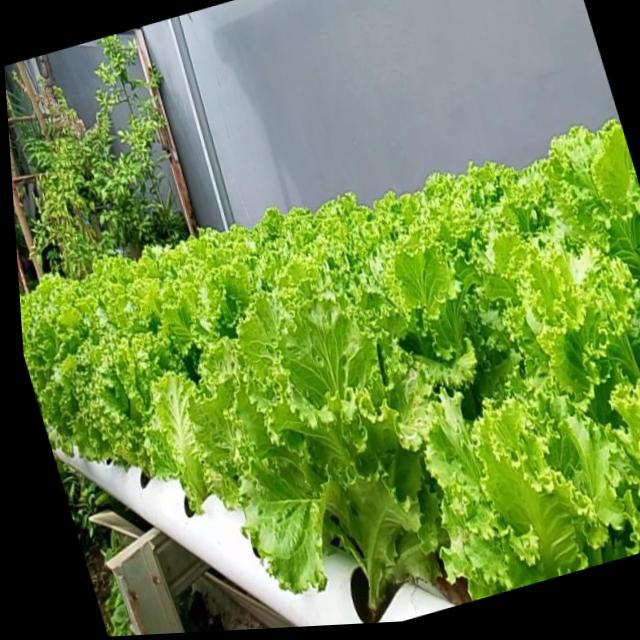Mature: (20, 119, 640, 621), (209, 301, 466, 619), (78, 330, 202, 482)
